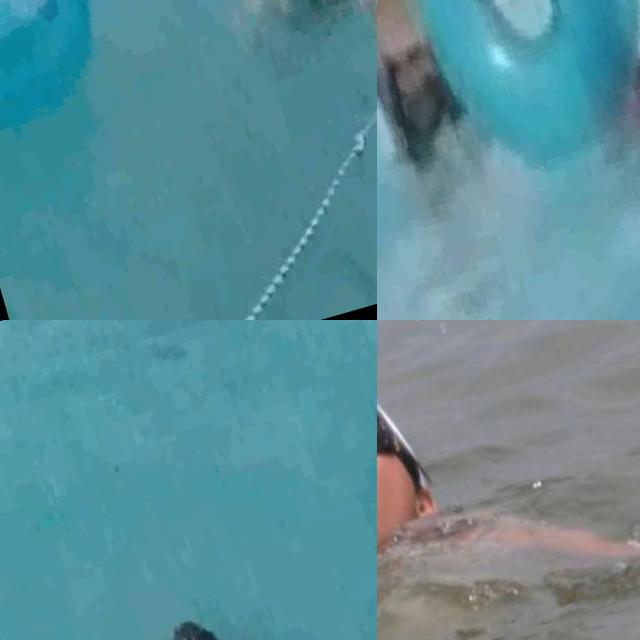drowning: (377, 320, 640, 640), (98, 544, 372, 640), (169, 0, 377, 120)
swimming: (377, 0, 484, 192)
